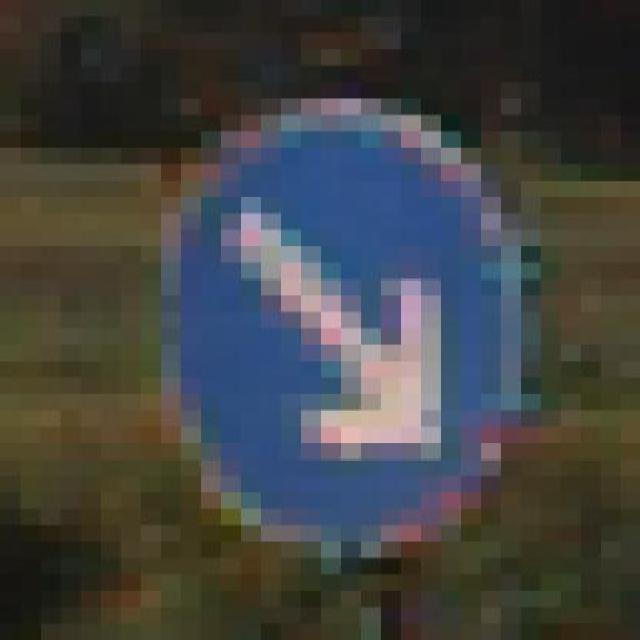Keep-Right: (104, 62, 584, 572)
